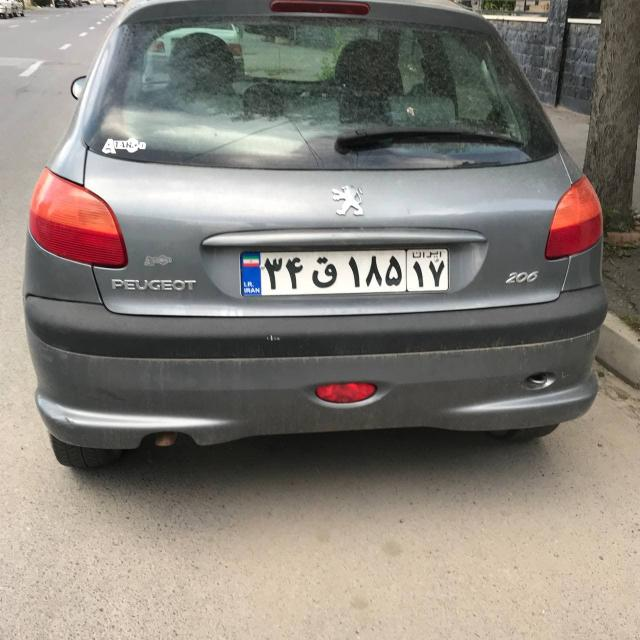Plates: (240, 247, 449, 297)
